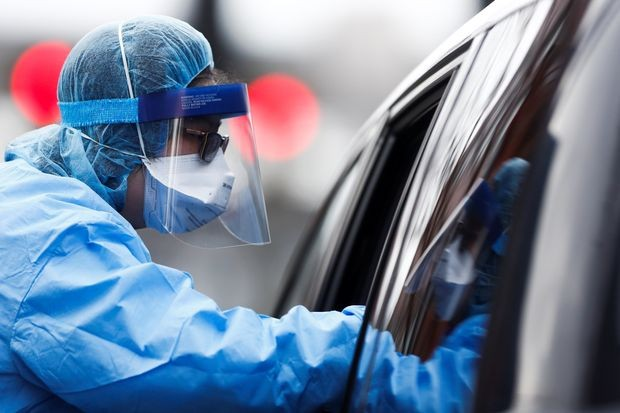Coverall: (1, 137, 361, 413)
Face_Shield: (53, 81, 275, 251)
with_mask: (150, 124, 238, 238)
